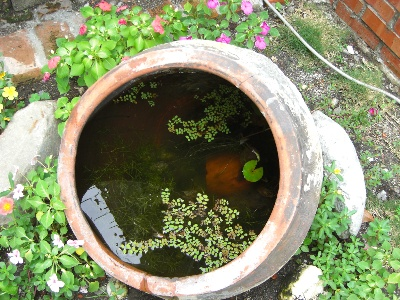bowl: (57, 40, 324, 300)
